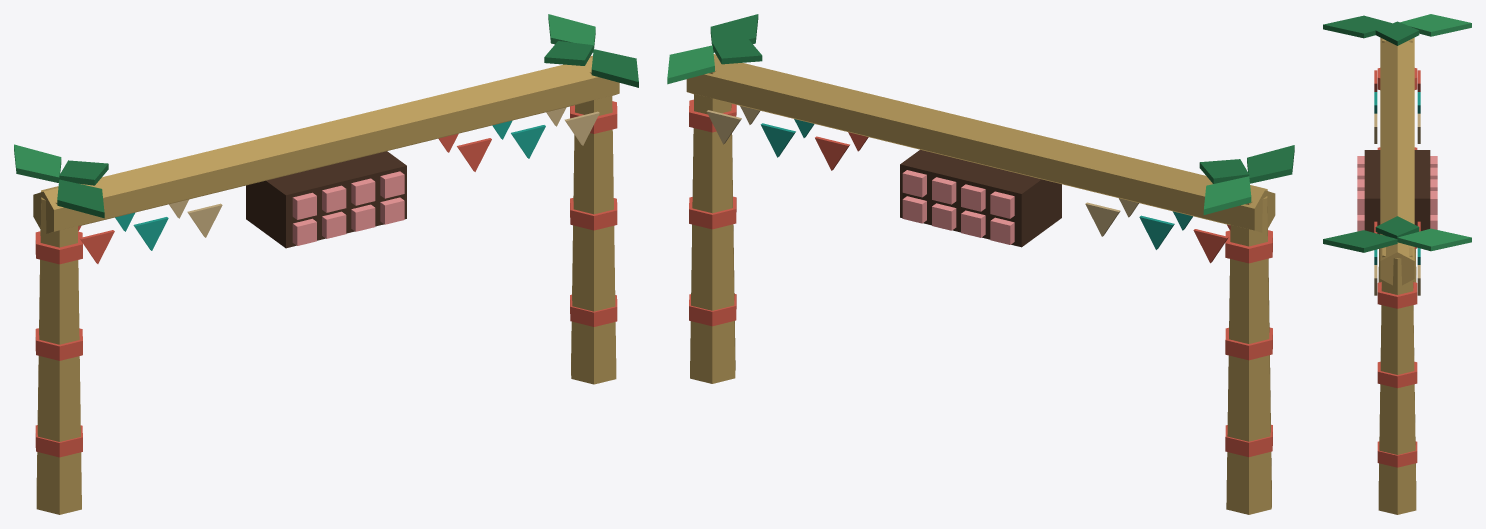
File: gantry.glb
3 views of the same model, side by side, from view 1: azimuth 30°, elevation 25°; view 2: azimuth 150°, elevation 25°; view 3: azimuth 270°, elevation 25° (orthographic). The views are drawn at different scales.
Visible parts, largest first — view 1: palmCove-gantry, lamps; view 2: palmCove-gantry, lamps; view 3: palmCove-gantry, lamps.
Boxes of the visible parts, <box> form: palmCove-gantry: <box>14,14,638,514</box>; lamps: <box>292,171,404,245</box>; palmCove-gantry: <box>667,14,1294,514</box>; lamps: <box>902,170,1014,244</box>; palmCove-gantry: <box>1323,14,1471,514</box>; lamps: <box>1357,156,1437,231</box>.
Size of the model in its own units: 1.26 by 0.68 by 0.34.
